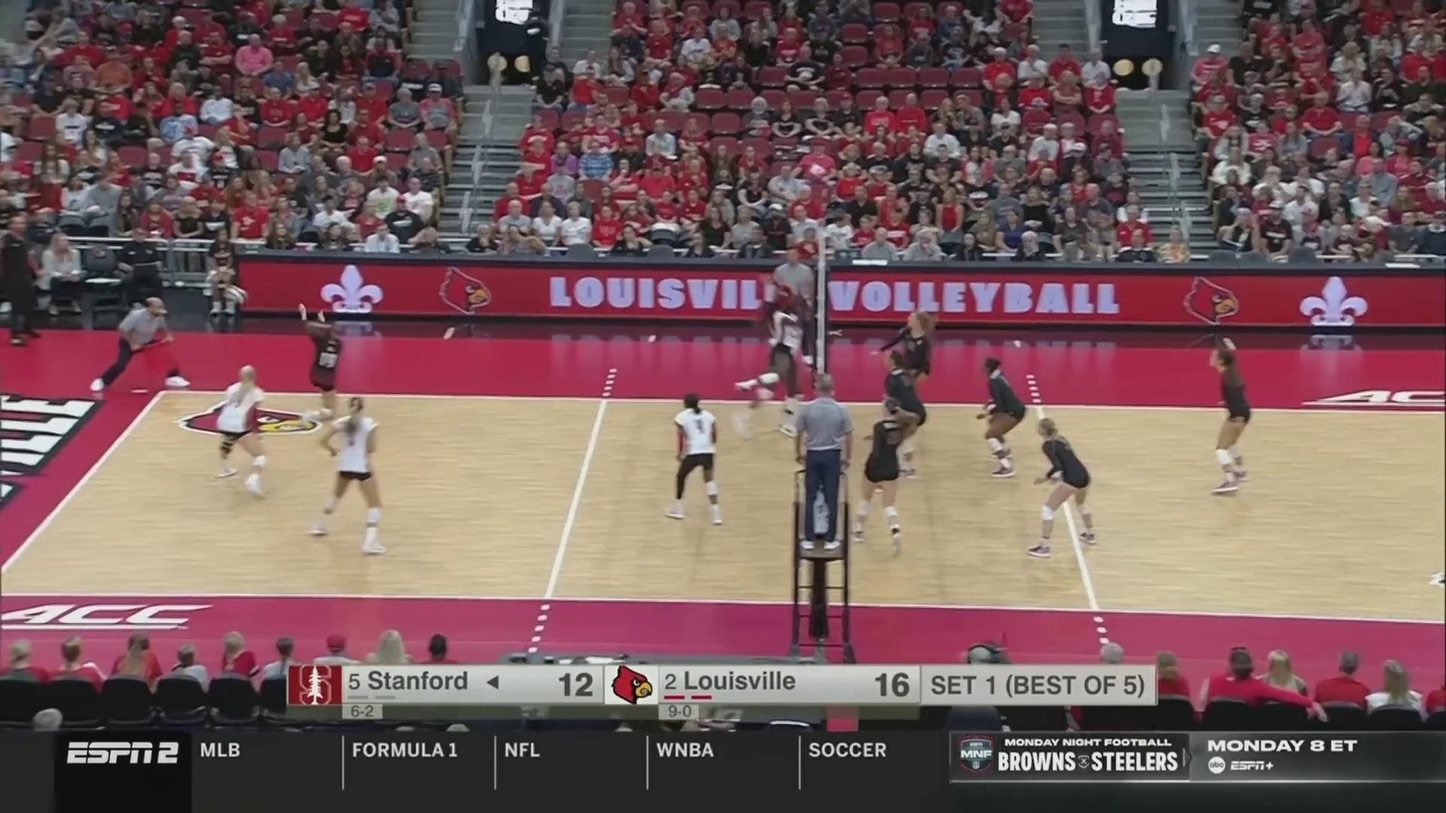player: (314, 398, 387, 550), (739, 291, 810, 436), (737, 285, 804, 438), (1028, 419, 1098, 552), (853, 399, 912, 548), (664, 396, 720, 522), (1205, 349, 1252, 494), (878, 309, 936, 426), (216, 364, 268, 494), (975, 357, 1028, 480), (879, 349, 925, 479), (297, 306, 346, 422)
refree: (787, 380, 854, 541), (95, 295, 185, 391)
